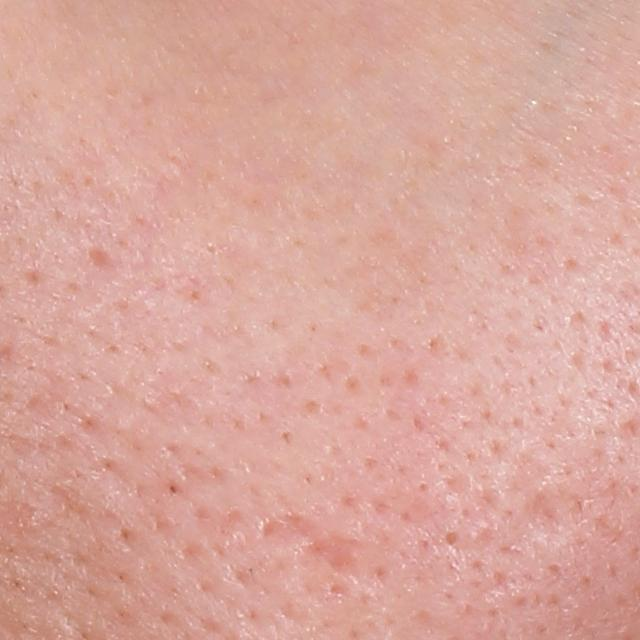atrophic_scar: (500, 454, 584, 556), (255, 508, 367, 579), (86, 245, 118, 274)
comedo: (442, 526, 462, 550)
